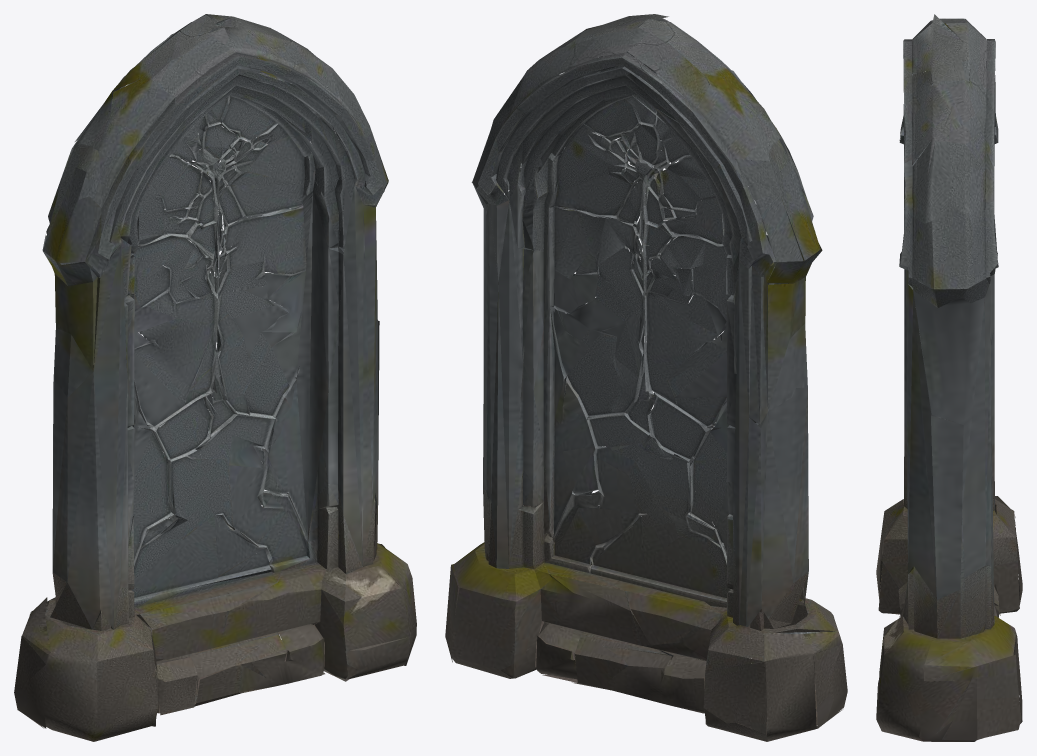
Rendered from grave_a.glb.
3 renders of one model, left to right at view 1: azimuth 30°, elevation 25°; view 2: azimuth 150°, elevation 25°; view 3: azimuth 270°, elevation 25°, orthographic. The views are drawn at different scales.
Parts seen in each view (by area): view 1: Mesh_0; view 2: Mesh_0; view 3: Mesh_0.
Boxes of the visible parts, x1,y1,x2,y2 form: Mesh_0: (14,14,416,741); Mesh_0: (445,14,847,741); Mesh_0: (876,14,1022,741).
Bounding box in the file's own units: 0.7113 × 1.2 × 0.2497.
Materials: 1 (1 with a texture image).
